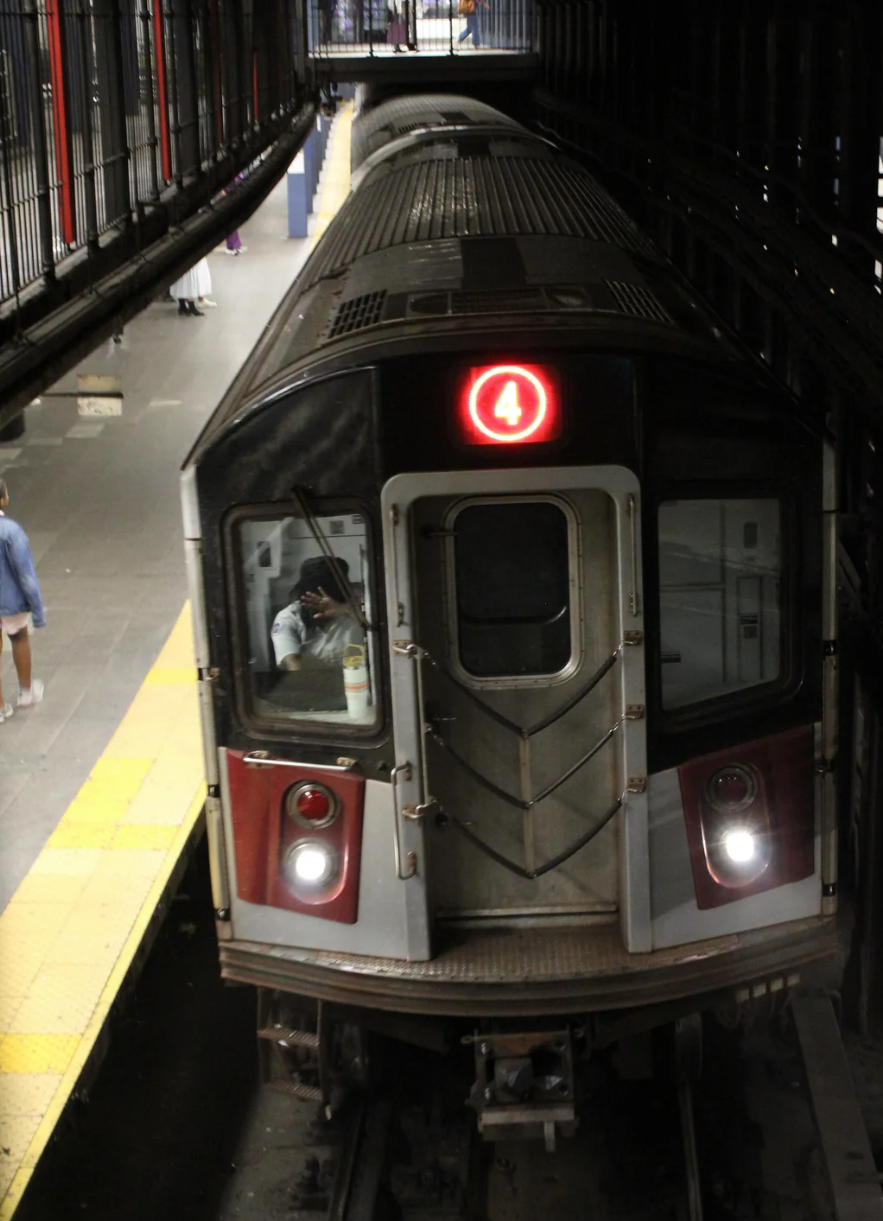train: (183, 295, 841, 998)
